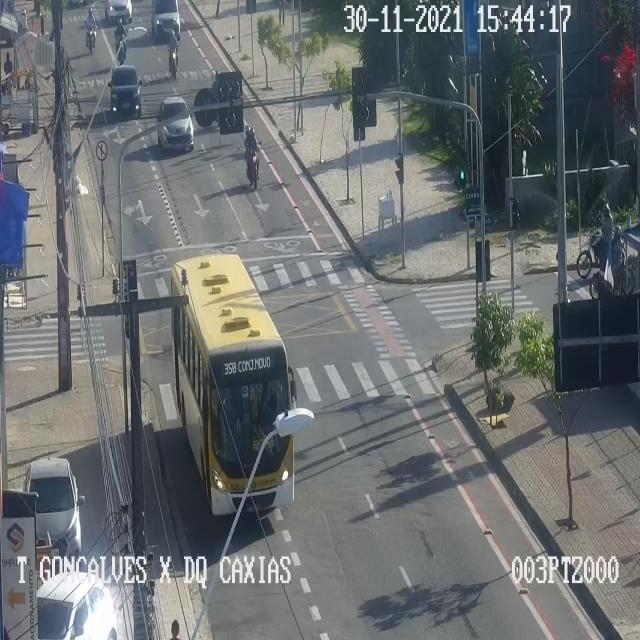Bus: (172, 253, 296, 512)
Car: (36, 571, 128, 639), (24, 456, 84, 559), (156, 96, 192, 158), (108, 64, 142, 120), (151, 0, 184, 37), (106, 0, 138, 20)
Motorcycle: (576, 204, 622, 278), (588, 225, 633, 297), (244, 127, 260, 189), (84, 5, 98, 55), (114, 18, 128, 64), (168, 28, 180, 80)
